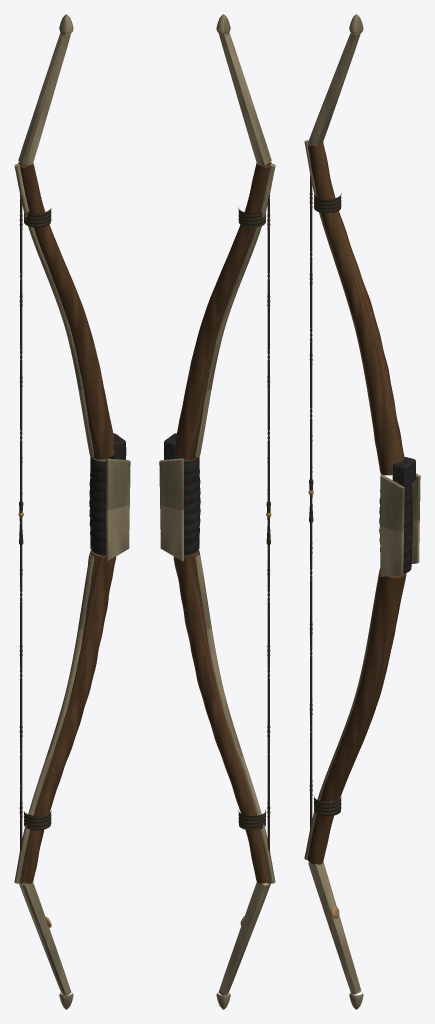
Rendered from composite-bow.glb.
3 renders of one model, left to right at view 1: azimuth 30°, elevation 25°; view 2: azimuth 150°, elevation 25°; view 3: azimuth 330°, elevation 25°, orthographic.
Parts seen in each view (by area): view 1: wood / oiled hardwood, horn / polished horn and bone, cord / waxed silk cord wrap, leather / oiled leather wrap; view 2: wood / oiled hardwood, horn / polished horn and bone, cord / waxed silk cord wrap, leather / oiled leather wrap; view 3: wood / oiled hardwood, horn / polished horn and bone, cord / waxed silk cord wrap, leather / oiled leather wrap.
Part boxes in pixels (box(x1,y1,x2,y2)): wood / oiled hardwood: box(18, 162, 116, 883); horn / polished horn and bone: box(14, 14, 130, 1009); cord / waxed silk cord wrap: box(19, 163, 51, 883); leather / oiled leather wrap: box(89, 433, 126, 555); wood / oiled hardwood: box(173, 162, 271, 883); horn / polished horn and bone: box(159, 14, 275, 1009); cord / waxed silk cord wrap: box(238, 163, 270, 883); leather / oiled leather wrap: box(164, 433, 200, 554); wood / oiled hardwood: box(307, 142, 406, 864); horn / polished horn and bone: box(304, 14, 420, 1009); cord / waxed silk cord wrap: box(309, 174, 341, 828); leather / oiled leather wrap: box(379, 457, 415, 573).
Bounding box in the file's own units: 0.1563 × 1.39 × 0.045.
Materials: 8 (5 with a texture image).
